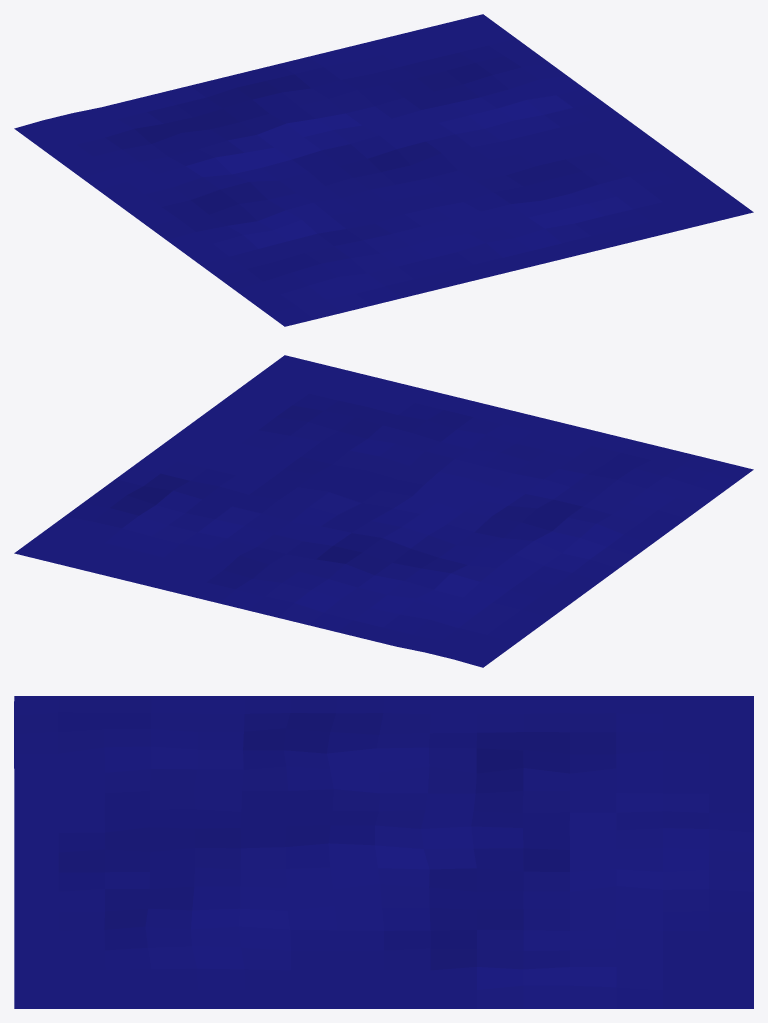
File: Water5.FBX
The picture shows the model from 3 angles, top to bottom: view 1: azimuth 30°, elevation 25°; view 2: azimuth 150°, elevation 25°; view 3: azimuth 270°, elevation 25°; orthographic projection. The views are drawn at different scales.
Parts seen in each view (by area): view 1: Terrain.004; view 2: Terrain.004; view 3: Terrain.004.
Part boxes in pixels (x1,y1,x2,y2): Terrain.004: (14, 14, 753, 326); Terrain.004: (14, 355, 753, 667); Terrain.004: (14, 696, 753, 1008).
Size of the model in its own units: 800 by 800 by 9.61.
